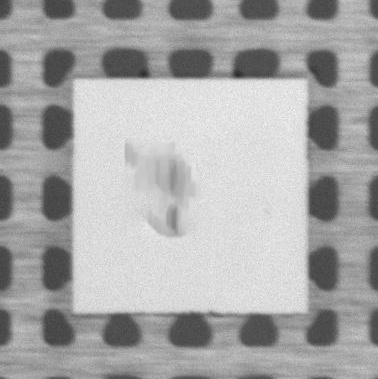DIE_INK: (123, 146, 195, 234)
